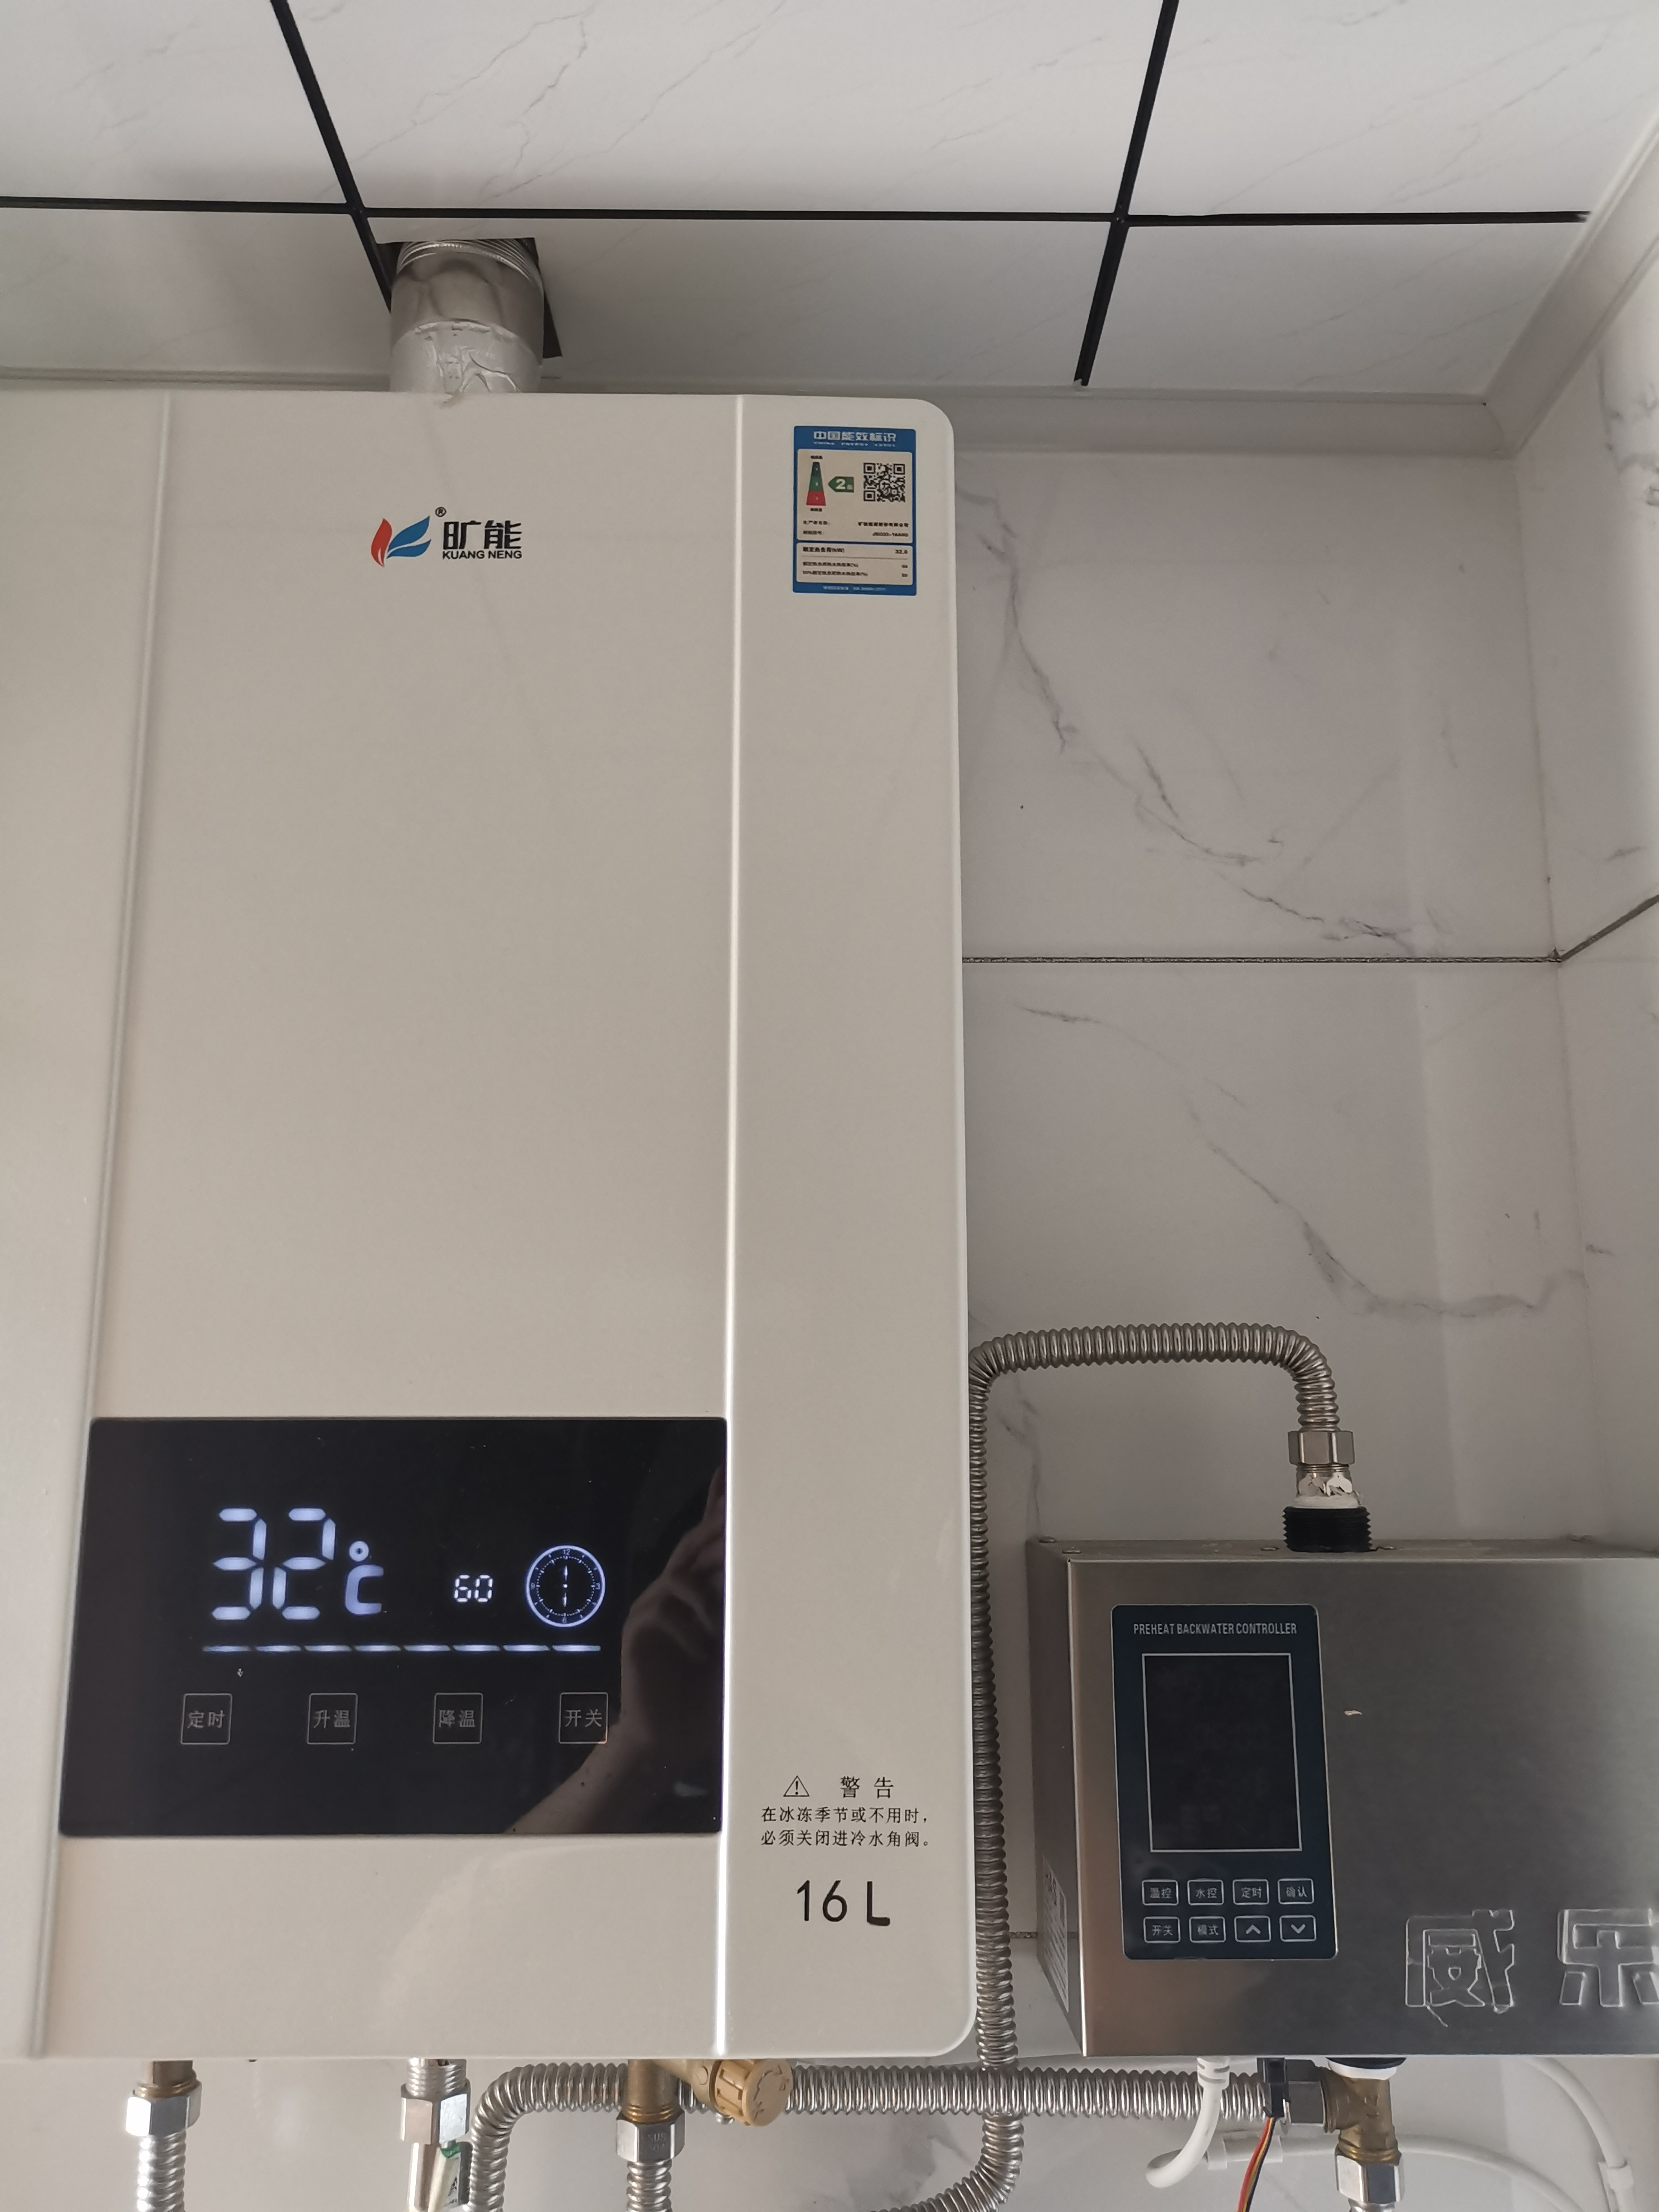loudou: (349, 493, 573, 578)
